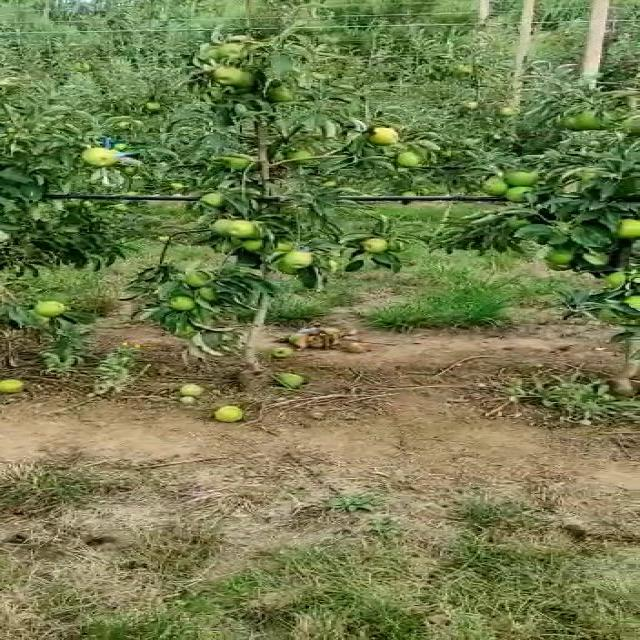100-_ripeness: (582, 105, 614, 131), (591, 304, 627, 324), (365, 126, 402, 145), (227, 219, 264, 238), (508, 169, 548, 186), (478, 177, 515, 195), (211, 68, 249, 85), (549, 246, 578, 268), (85, 148, 120, 166), (607, 218, 640, 237), (222, 153, 254, 171), (22, 310, 53, 327), (234, 237, 262, 255), (392, 152, 423, 168), (220, 44, 249, 61), (196, 284, 220, 303), (171, 296, 196, 314), (284, 251, 309, 269), (185, 272, 211, 288), (273, 84, 296, 102), (509, 187, 536, 202), (291, 147, 316, 163), (40, 302, 67, 315), (202, 193, 227, 207), (608, 272, 628, 289), (208, 220, 228, 234), (200, 45, 218, 59), (366, 240, 384, 253)
